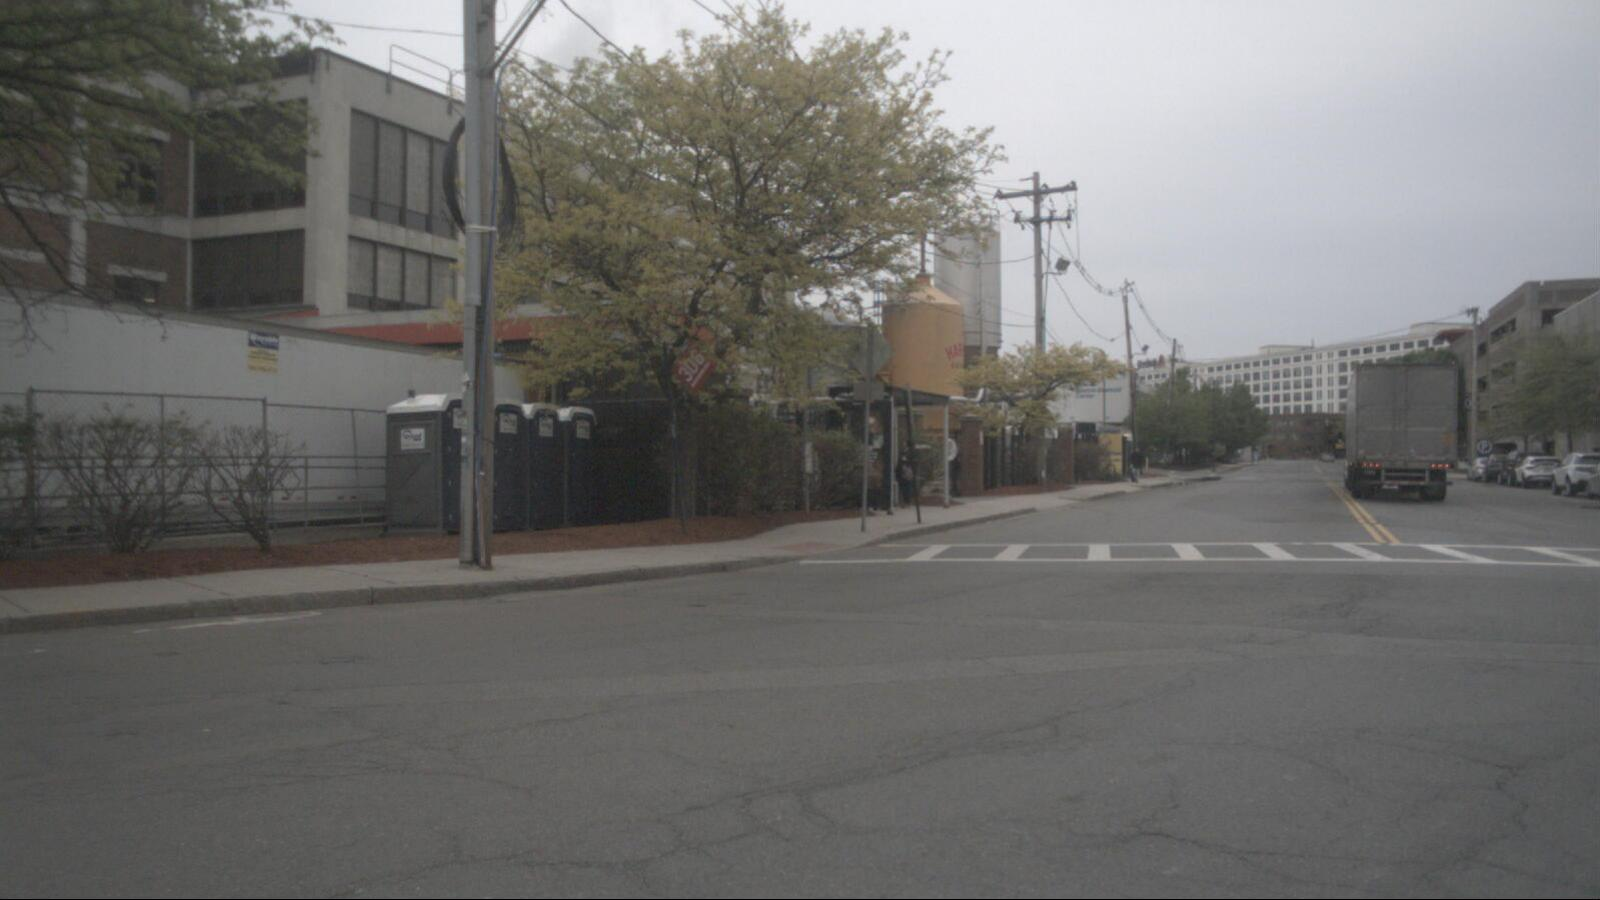human.pedestrian.adult-pedestrian.moving: (1127, 446, 1142, 485)
human.pedestrian.adult-pedestrian.standing: (894, 439, 916, 510)
